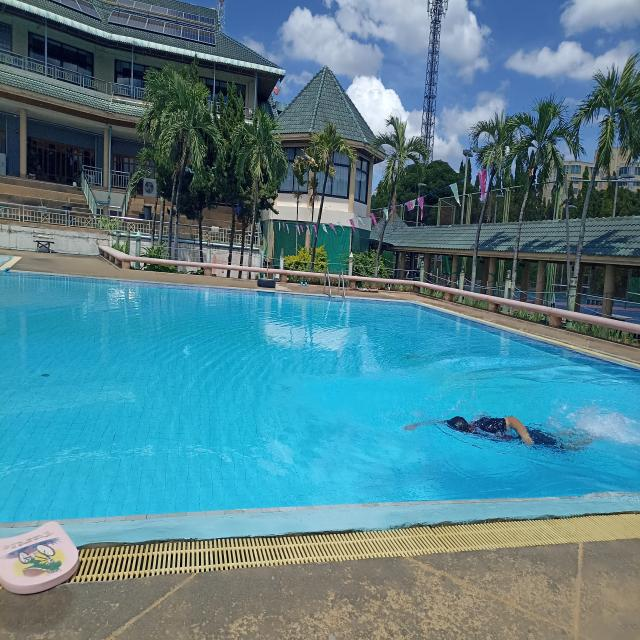Swimming: (398, 408, 615, 453)
